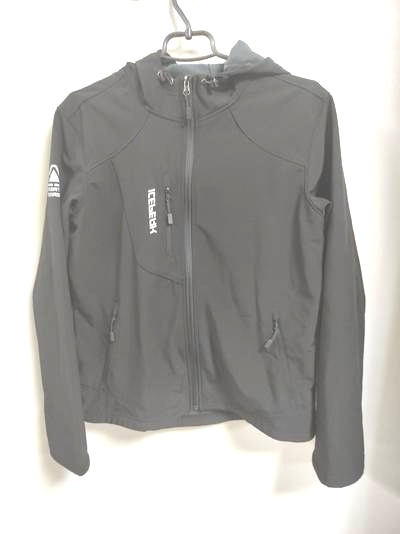Hoodie: (28, 40, 376, 491)
